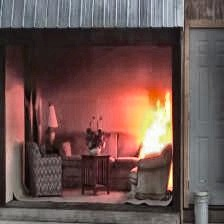fire: (133, 82, 179, 161)
